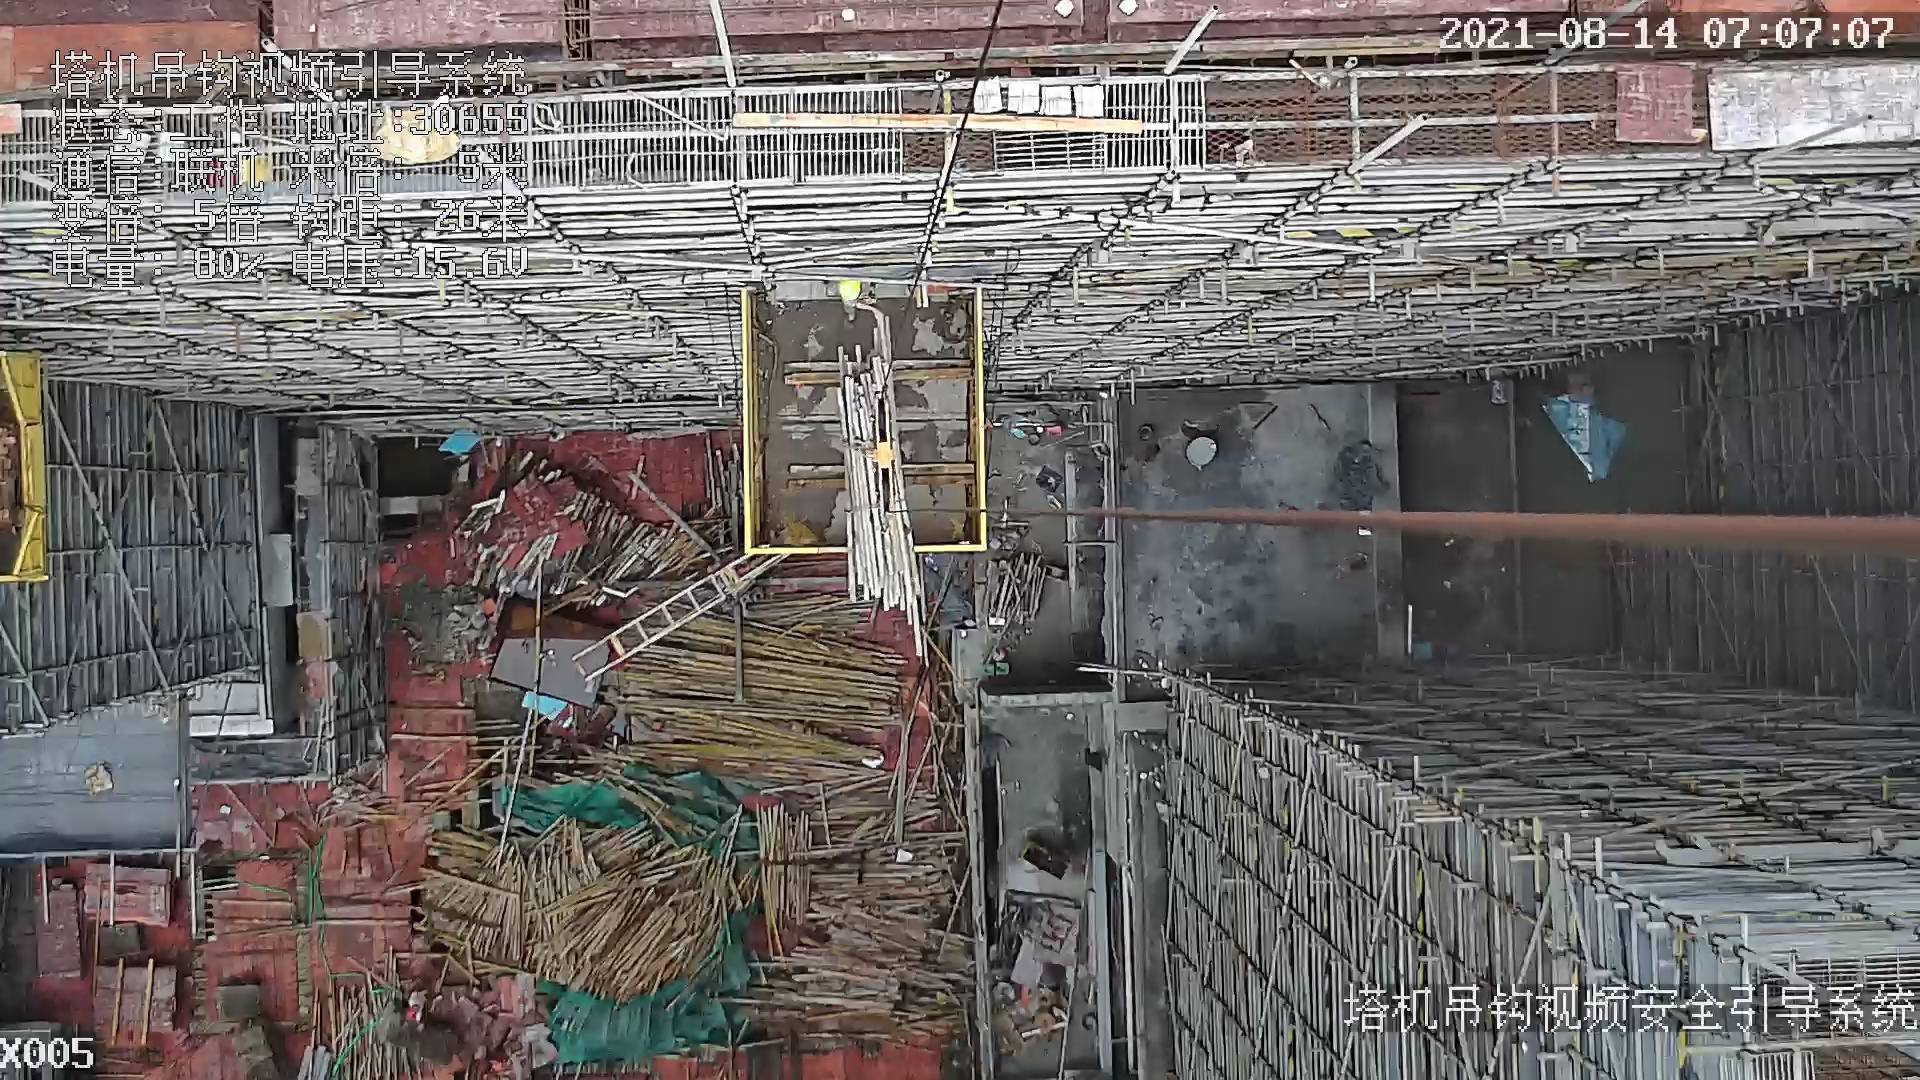helmet: (840, 280, 863, 301)
hook: (862, 392, 900, 532)
person: (832, 280, 877, 322)
